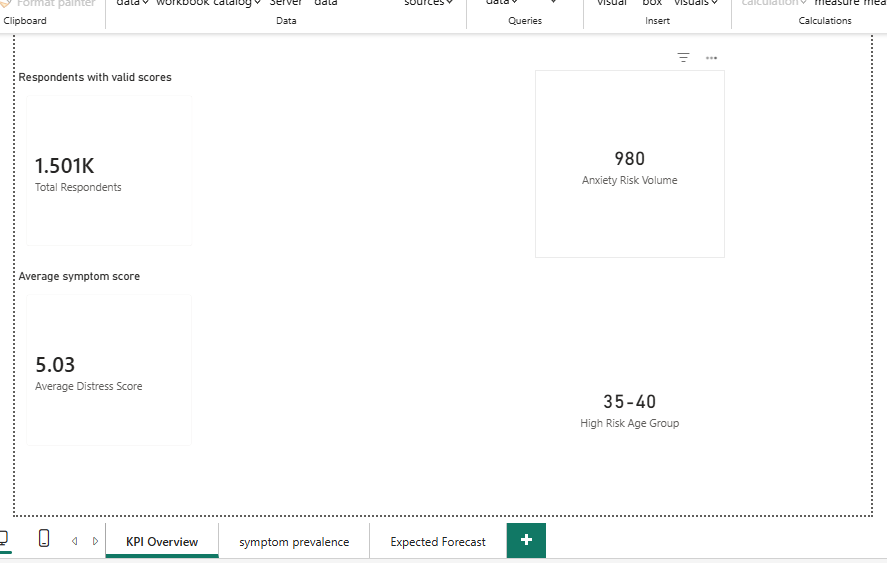

The page's visual inventory and layout, read from the dashboard file:
{"tool":"powerbi","page":{"name":"KPI Overview","canvas":[1280,720],"ordinal":0},"visuals":[{"type":"cardVisual","title":"Average symptom score","fields":{"Data":["Avg(Data.Symptom score)"]},"box":[0,353,281,281],"z":0},{"type":"cardVisual","title":"Respondents with valid scores","fields":{"Data":["CountNonNull(Data.Symptom score)"]},"box":[0,55.4,282.2,280.5],"z":1000},{"type":"card","fields":{"Values":["CountNonNull(Data.Feeling anxious)"]},"box":[777.1,55.7,282.9,280],"z":2000},{"type":"card","fields":{"Values":["Min(Data.Age)"]},"box":[777.1,418.6,282.9,280],"z":3000}]}

Visuals, with their boxes on the page's 1280x720 design canvas (x1, y1, x2, y2). These are canvas units, not pixel positions in the 887x563 screenshot, which may show the page scaled, cropped or inside an application window:
"Average symptom score" cardVisual: 0 353 281 634
"Respondents with valid scores" cardVisual: 0 55 282 336
card - CountNonNull(Data.Feeling anxious): 777 56 1060 336
card - Min(Data.Age): 777 419 1060 699
